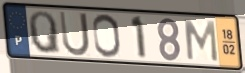1: (129, 15, 150, 60)
8: (156, 16, 183, 63)
M: (183, 19, 220, 64)
O: (91, 13, 123, 59)
Q: (27, 9, 63, 56)
U: (57, 9, 92, 58)
